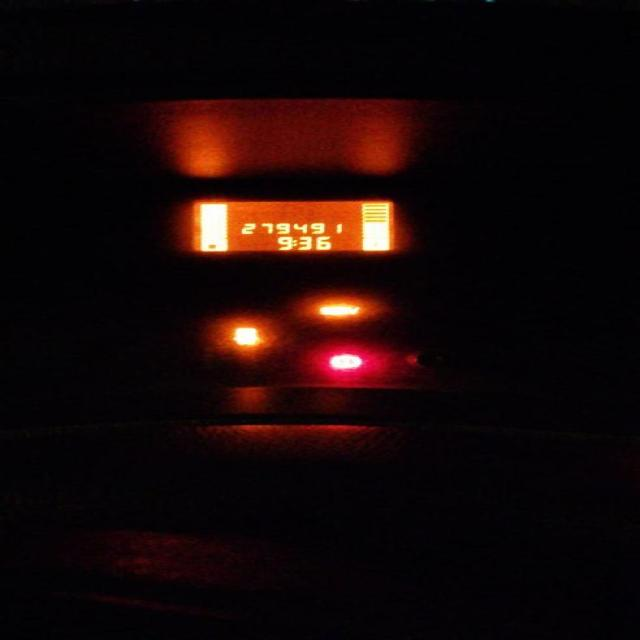odometer: (189, 200, 394, 252)
